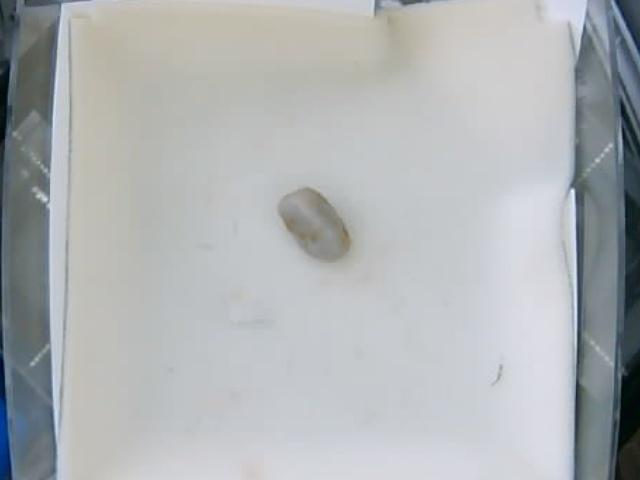Pebble: (279, 186, 353, 263)
